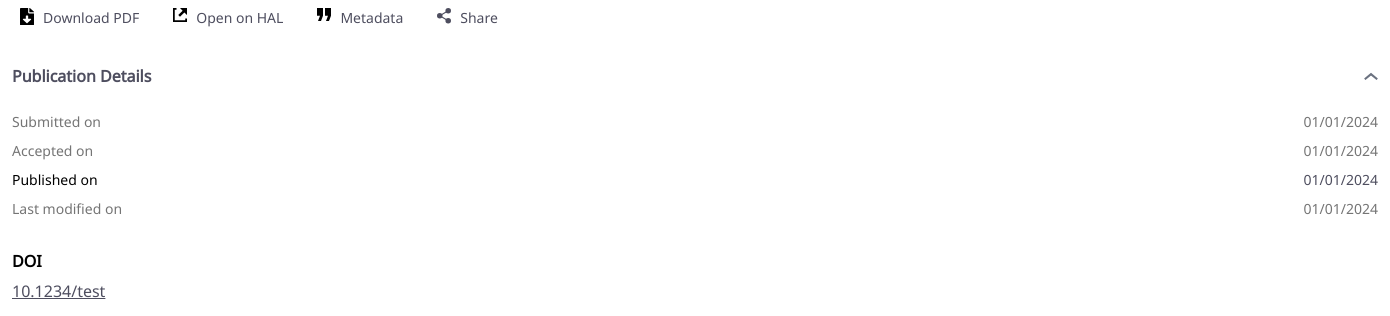
ArticleDetailsSidebar › Hover-based dropdown toggling › shows and hides the metadata dropdown on mouse enter/leave
Hover over the button "Metadata" at (360, 18), box [317, 8, 403, 27]
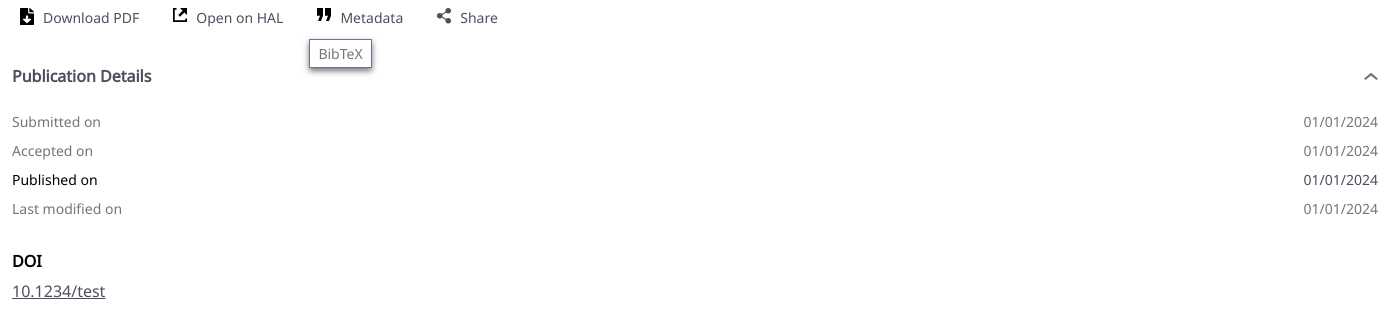
Expected: the element with class "articleDetailsSidebar-links-link-modal-content-displayed" is shown, [309, 39, 372, 68]
Move the pointer off the button "Metadata BibTeX", box [317, 8, 403, 27]
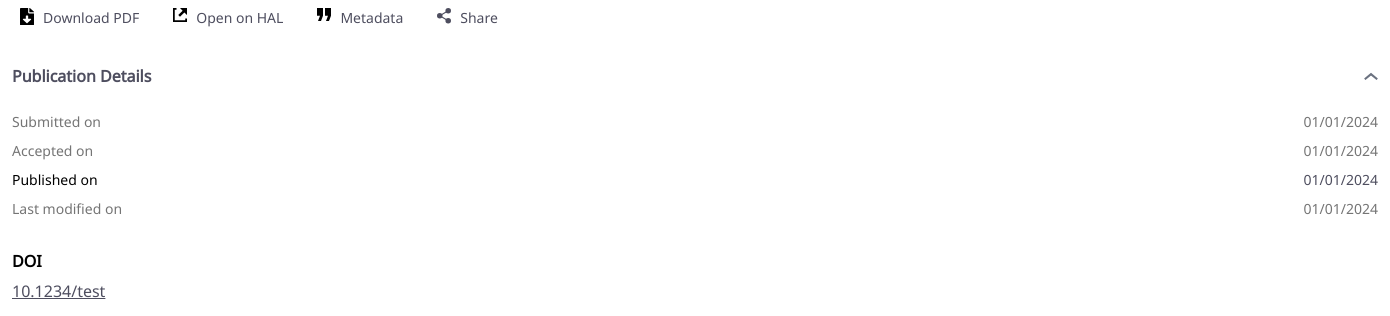
Expected: the element with class "articleDetailsSidebar-links-link-modal-content-displayed" is gone
